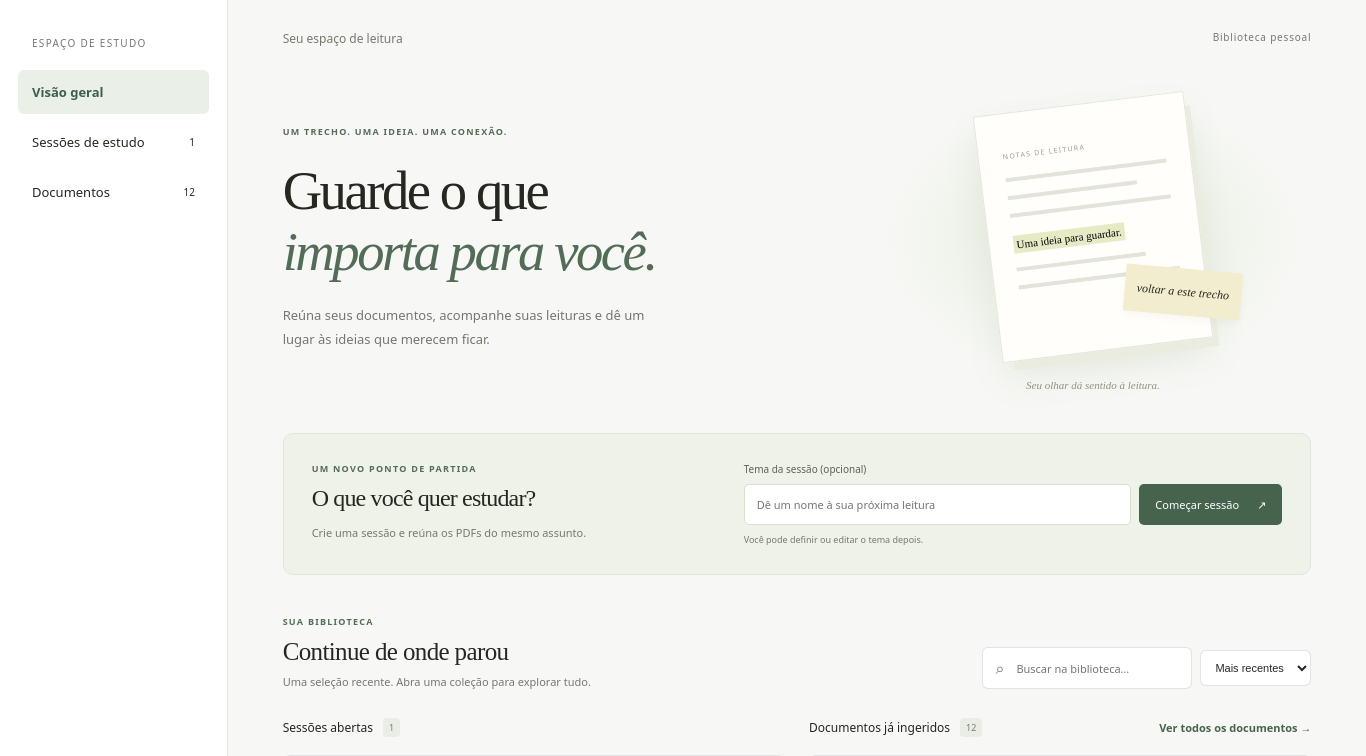
Test case: SessionLibrary › paginates documents and can order the collection by title
Expected: the text "Arquivo 08" is not shown
Click the button "Ver todos os documentos →".
click(1231, 727)  # box [1151,714,1311,740]
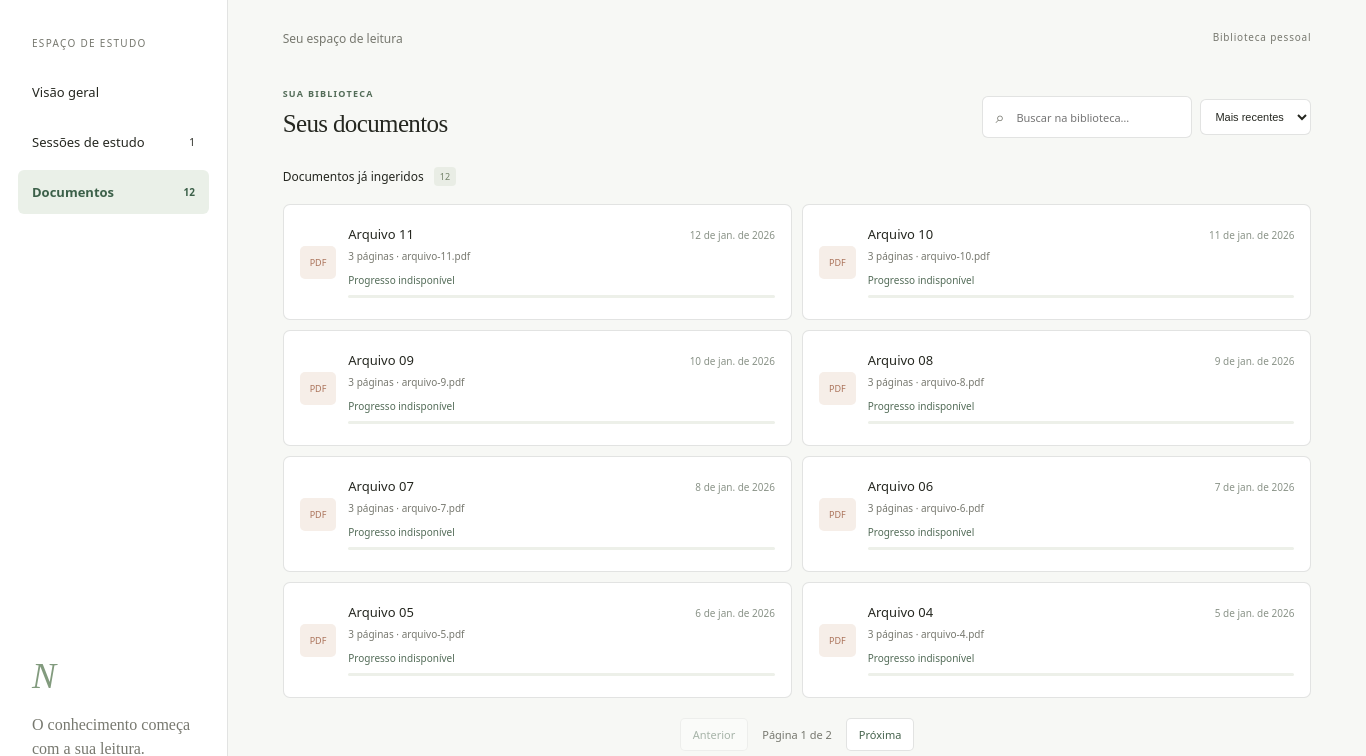
Expected: the text "Arquivo 03" is not shown
Expected: the text "Arquivo 04" is shown, [868,604,933,622]
Select "Título A–Z" in the dropdown named "Ordenar biblioteca" at [1256, 117], box [1200,99,1311,135]
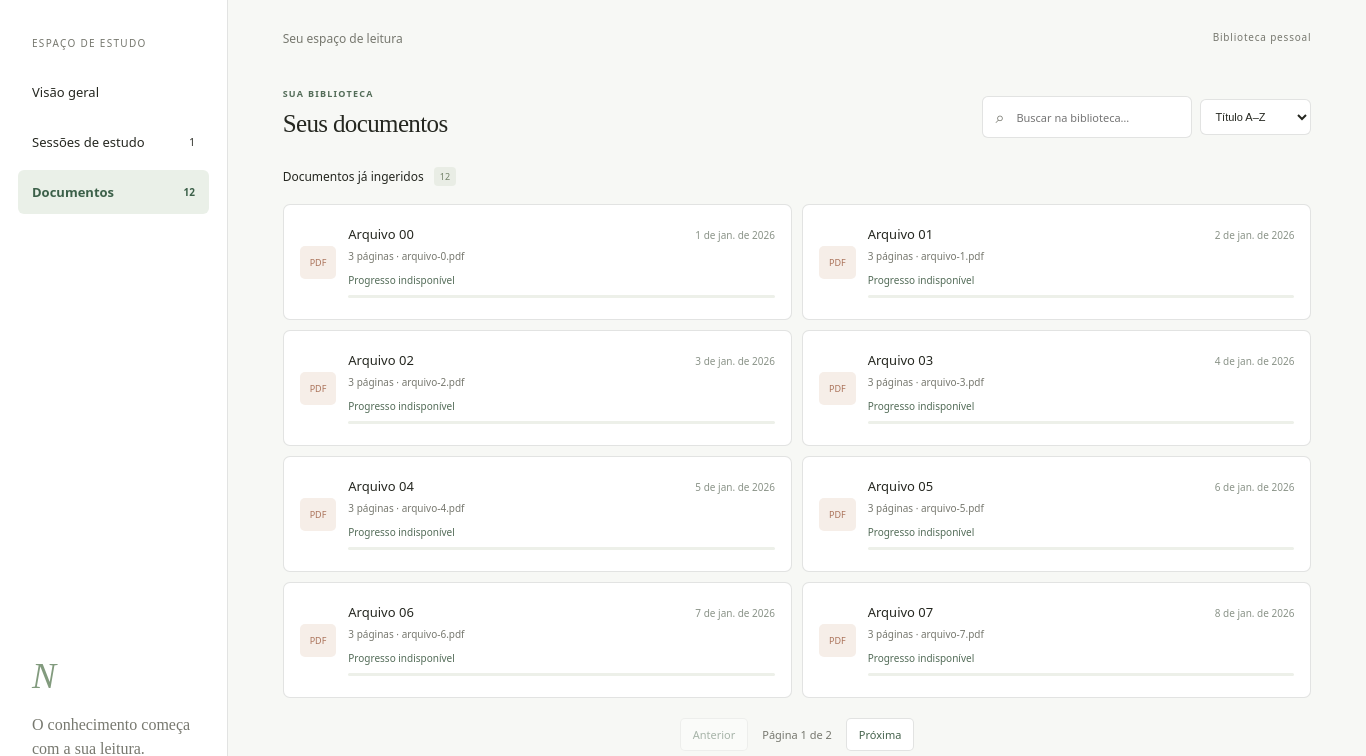
Expected: the text "Arquivo 00" is shown, [348,226,414,244]
Expected: the text "Arquivo 08" is gone
Click the button with aria-label "Próxima página de documentos".
click(880, 734)  # box [846,718,914,751]
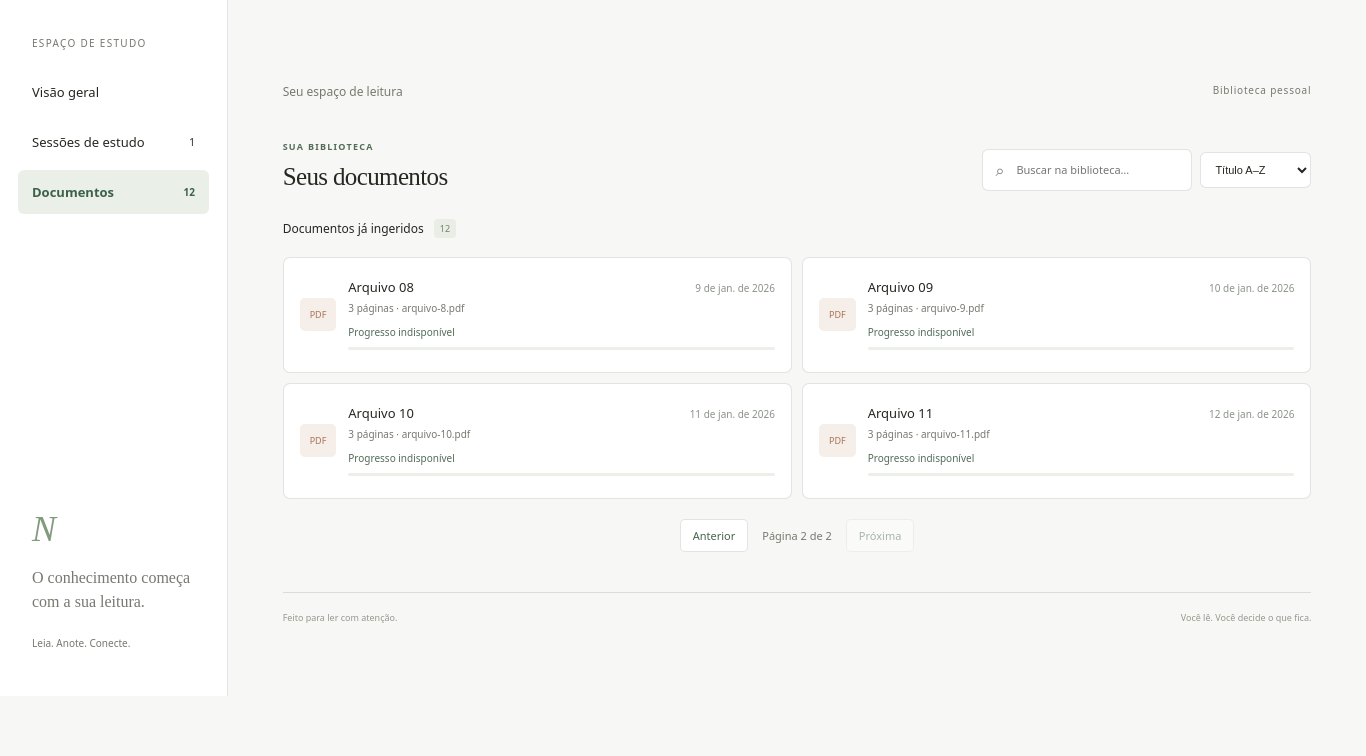
Expected: the text "Arquivo 08" is shown, [348,279,414,296]
